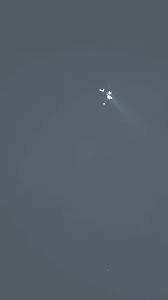Plane: (86, 73, 141, 129)
